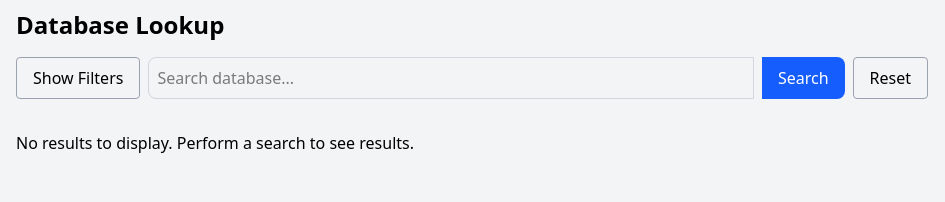
DBLookup Component › displays error when search fails
What coordinates should you click on to do the following:
click the button "Search"
I would click on:
 (803, 78)
Its box is [762, 57, 844, 99].
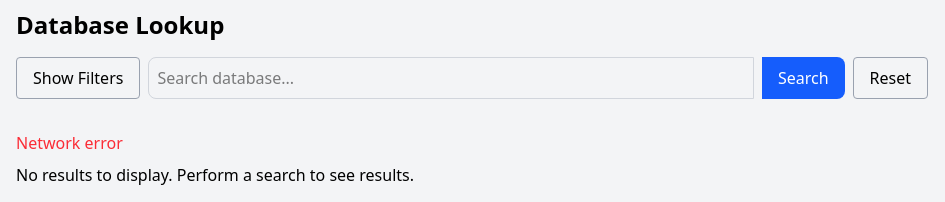
Expected: the text "Network error" is shown, [16, 132, 123, 154]
